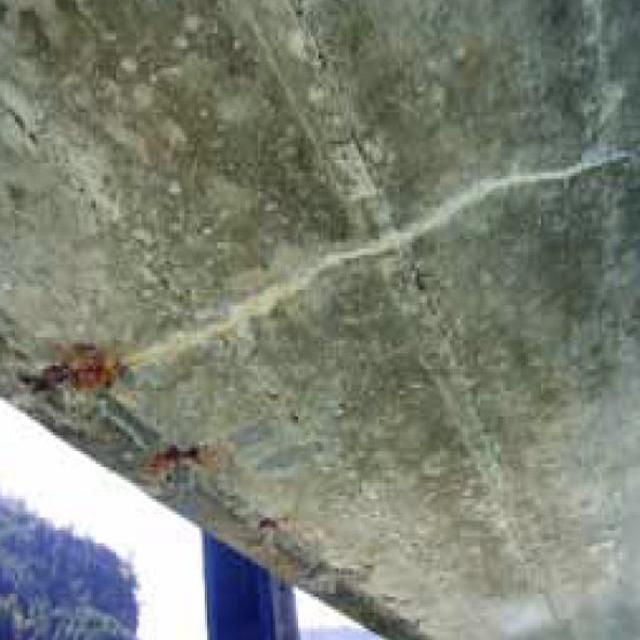corrosion: (31, 336, 226, 501)
